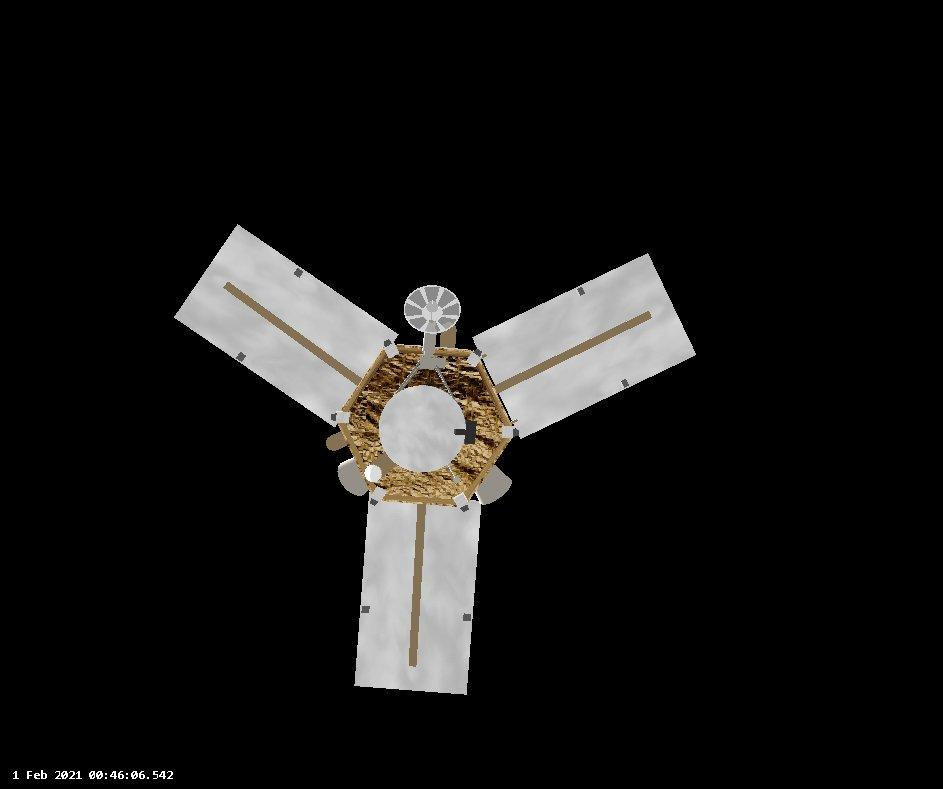antenna: (377, 383, 469, 473), (400, 280, 463, 335)
body: (338, 341, 519, 511)
solar: (169, 219, 403, 432), (469, 245, 702, 444), (352, 492, 487, 698)
thruster: (473, 460, 517, 507), (334, 455, 372, 499)
